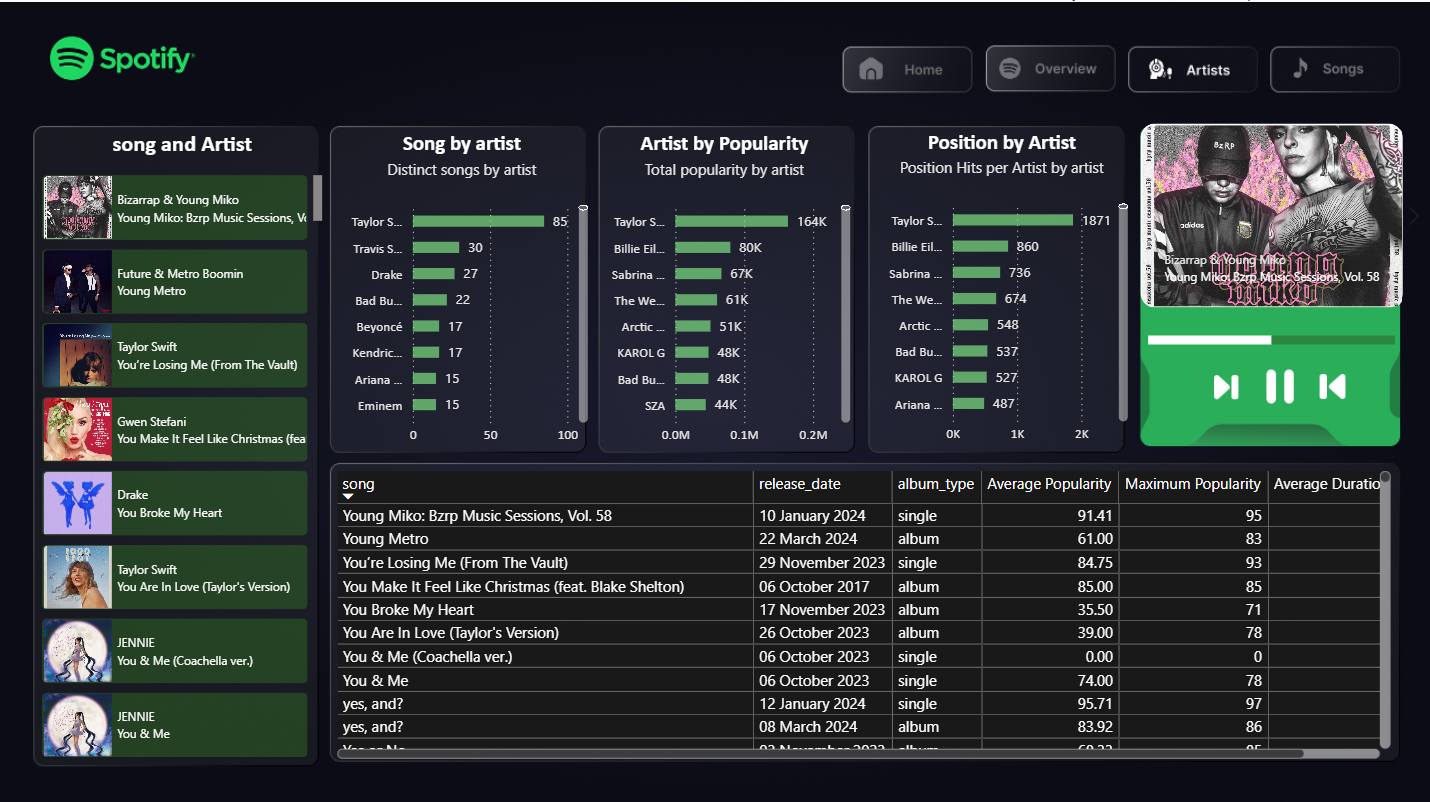

Layout of this report page (visuals, bound fields, positions):
{"tool":"powerbi","page":{"name":"Artist","canvas":[1280,720],"ordinal":2},"visuals":[{"type":"actionButton","box":[754.3,40.1,112.2,39.8],"z":0},{"type":"actionButton","box":[883.4,40.1,112.2,39.8],"z":1000},{"type":"actionButton","box":[1010,38.8,112.2,39.8],"z":2000},{"type":"actionButton","box":[1137.5,38.8,112.2,39.8],"z":3000},{"type":"advancedSlicerVisual","title":"song and Artist","fields":{"Values":["Top-50-World.song"]},"box":[995.3,103.8,284.7,174.9],"z":4000},{"type":"hundredPercentStackedBarChart","fields":{"Y":["Top-50-World.Average Popularity","Avg(Top-50-World.popularity)"]},"box":[1021.9,265.4,230.4,66.4],"z":5000},{"type":"image","box":[1178.3,328.8,26.1,30.2],"z":6000},{"type":"image","box":[1083.6,331.5,26.1,24.7],"z":7000},{"type":"image","box":[1124.8,328.8,40,30],"z":8000},{"type":"shape","box":[647.9,308.8,235.3,300.4],"z":9000},{"type":"advancedSlicerVisual","title":"song and Artist","fields":{"Values":["Top-50-World.song"]},"box":[33.8,113.4,260.6,567],"z":10000},{"type":"tableEx","fields":{"Values":["Top-50-World.song","Top-50-World.release_date","Top-50-World.album_type","Top-50-World.Average Popularity","Top-50-World.Maximum Popularity","Top-50-World.Average Duration (Minutes)"]},"box":[295.6,413.8,951.9,266.6],"z":11000},{"type":"clusteredBarChart","title":"Song by artist","fields":{"Y":["Slicer_option 2.Distinct Songs"],"Category":["Top-50-World.artist"]},"box":[295.6,114.6,235.3,288.3],"z":12000},{"type":"clusteredBarChart","title":"Artist by Popularity","fields":{"Y":["Sum(Top-50-World.popularity)"],"Category":["Top-50-World.artist"]},"box":[530.8,114.6,235.3,288.3],"z":13000},{"type":"clusteredBarChart","title":"Position by Artist","fields":{"Category":["Top-50-World.artist"],"Y":["Slicer_option 2.Average Hits per Artist"]},"box":[778.2,113.4,235.3,288.3],"z":14000}]}

Visuals, with their boxes in screenshot pixels (x1, y1, x2, y2), scaled from the page's 1280x720 canvas onto the 1430x802 screenshot:
actionButton: bbox(843, 45, 968, 89)
actionButton: bbox(987, 45, 1112, 89)
actionButton: bbox(1128, 43, 1254, 88)
actionButton: bbox(1271, 43, 1396, 88)
"song and Artist" advancedSlicerVisual: bbox(1112, 116, 1429, 310)
hundredPercentStackedBarChart - Top-50-World.Average Popularity x Avg(Top-50-World.popularity): bbox(1142, 296, 1399, 370)
image: bbox(1316, 366, 1346, 400)
image: bbox(1211, 369, 1240, 397)
image: bbox(1257, 366, 1301, 400)
shape: bbox(724, 344, 987, 679)
"song and Artist" advancedSlicerVisual: bbox(38, 126, 329, 758)
tableEx - Top-50-World.song x Top-50-World.release_date: bbox(330, 461, 1394, 758)
"Song by artist" clusteredBarChart: bbox(330, 128, 593, 449)
"Artist by Popularity" clusteredBarChart: bbox(593, 128, 856, 449)
"Position by Artist" clusteredBarChart: bbox(869, 126, 1132, 447)
